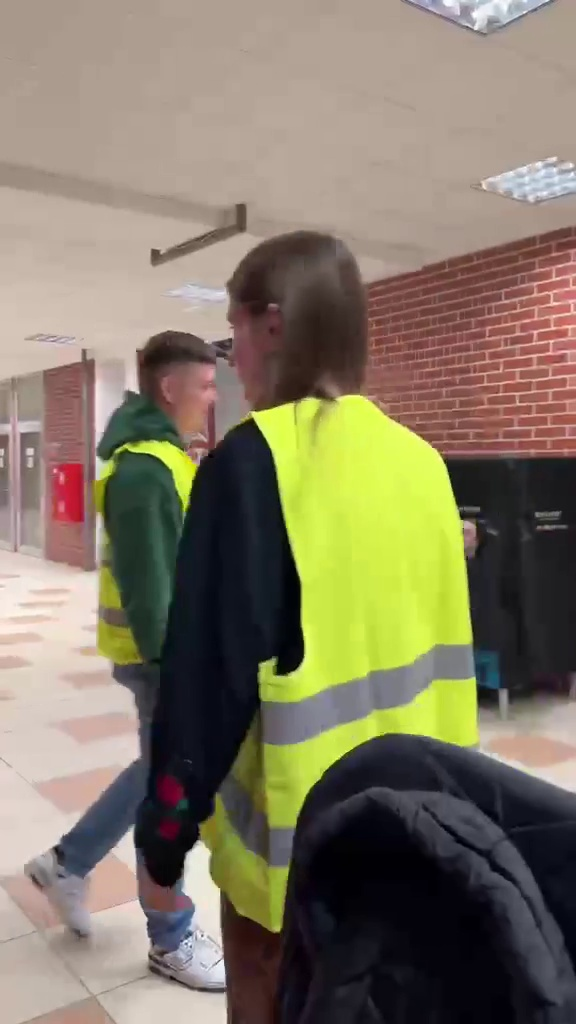vest: (229, 238, 484, 958), (74, 319, 218, 1000)
